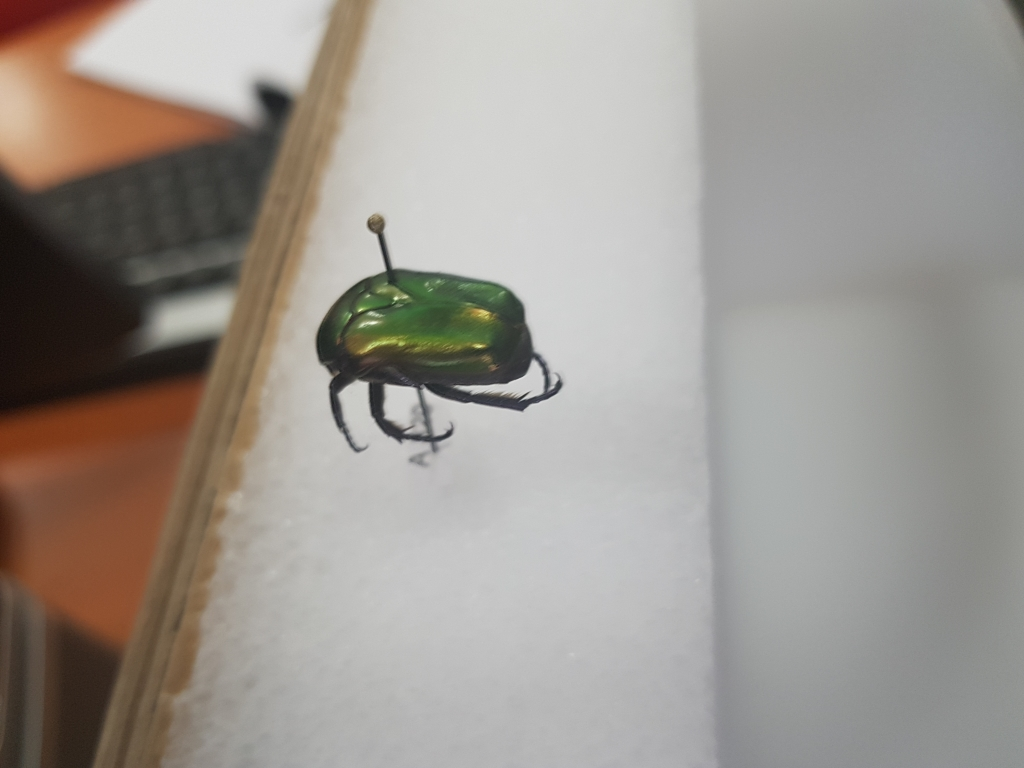Protaetia_cuprea_ignicollis: (312, 266, 569, 456)
